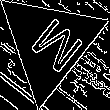M_SW: (17, 10, 81, 77)
